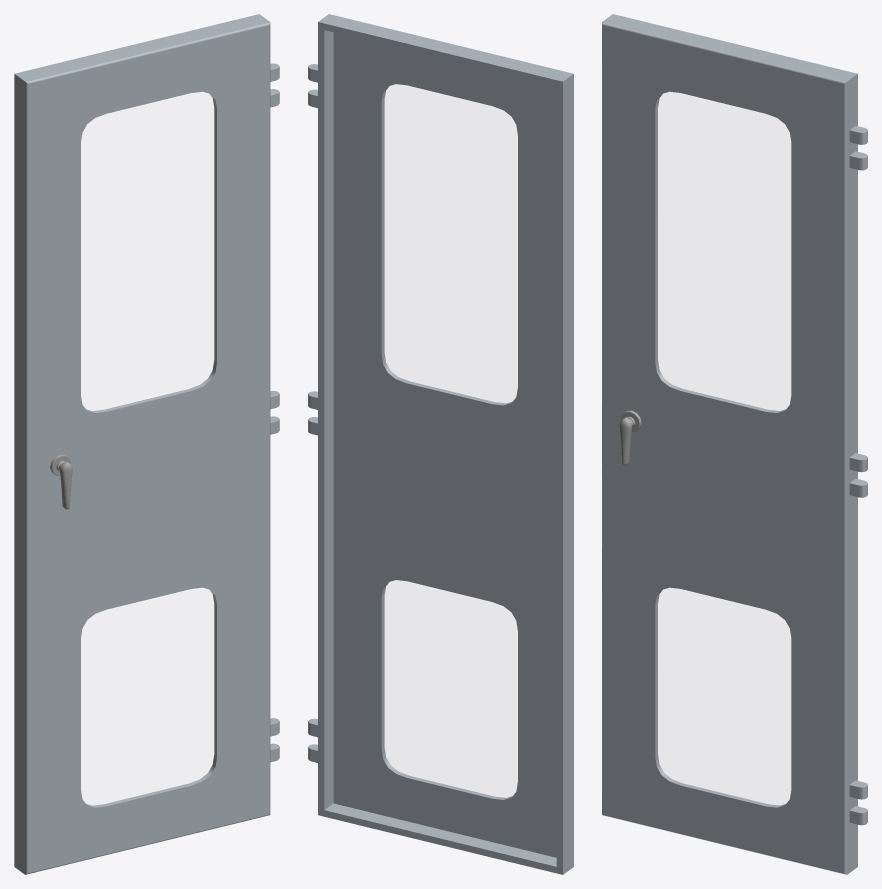
File: TR_FRONT_DOOR2.fbx
3 renders of one model, left to right at view 1: azimuth 30°, elevation 25°; view 2: azimuth 150°, elevation 25°; view 3: azimuth 330°, elevation 25°, orthographic.
Parts seen in each view (by area): view 1: TR_FRONT_DOOR1; view 2: TR_FRONT_DOOR1; view 3: TR_FRONT_DOOR1.
Part boxes in pixels (<box>): TR_FRONT_DOOR1: <box>14,14,279,874</box>; TR_FRONT_DOOR1: <box>308,14,573,874</box>; TR_FRONT_DOOR1: <box>602,14,867,874</box>.
Size of the model in its own units: 0.6334 by 1.85 by 0.0934.
Materials: 2 (1 with a texture image).
